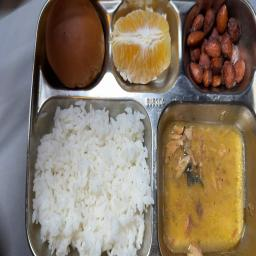100_bread: (44, 0, 105, 87)
100_nuts: (182, 4, 251, 92)
100_orange: (110, 8, 175, 94)
100_rice: (37, 94, 152, 254)
empty: (158, 107, 250, 256)
